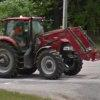Tractor: (2, 7, 92, 82)
